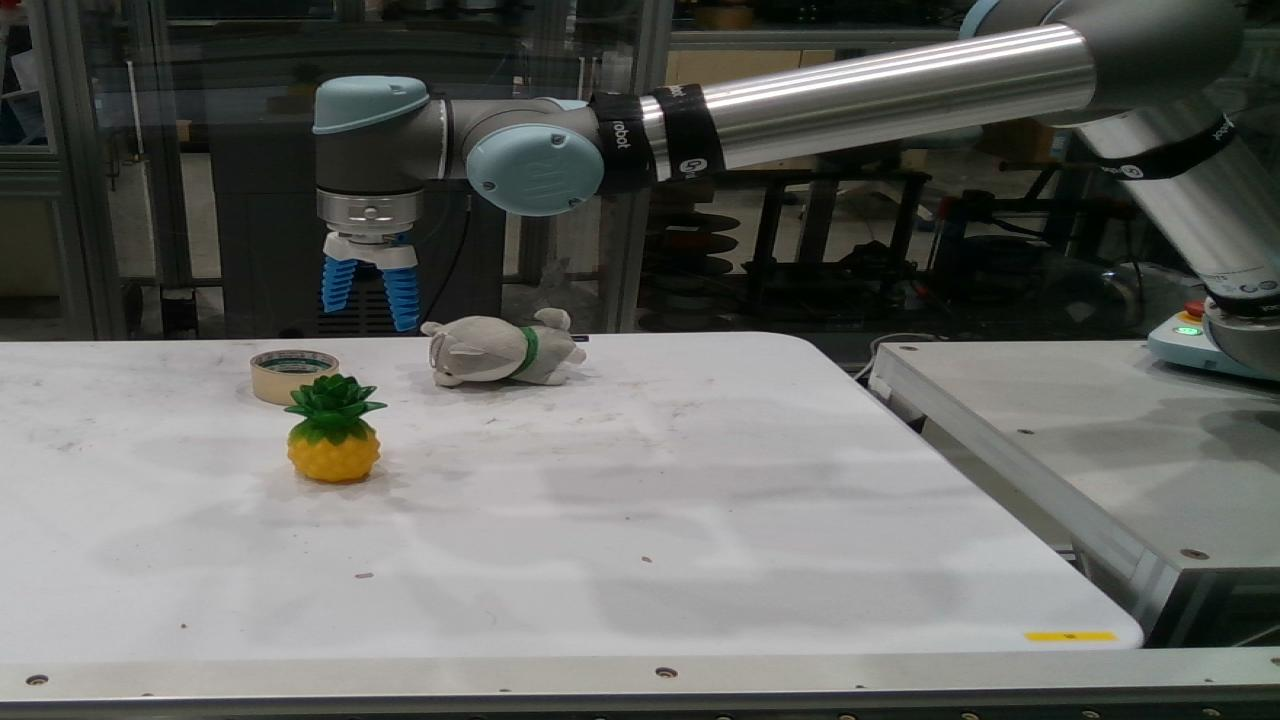UR5: (312, 0, 1266, 370)
gripper_left: (322, 256, 356, 312)
gripper_right: (384, 268, 416, 332)
target: (424, 309, 582, 386), (284, 375, 382, 480), (252, 351, 334, 404)
